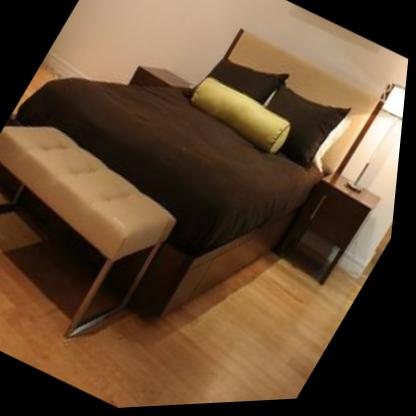Bed: (15, 33, 374, 320)
Nightstand: (278, 177, 384, 291)
Table: (0, 101, 204, 360)
